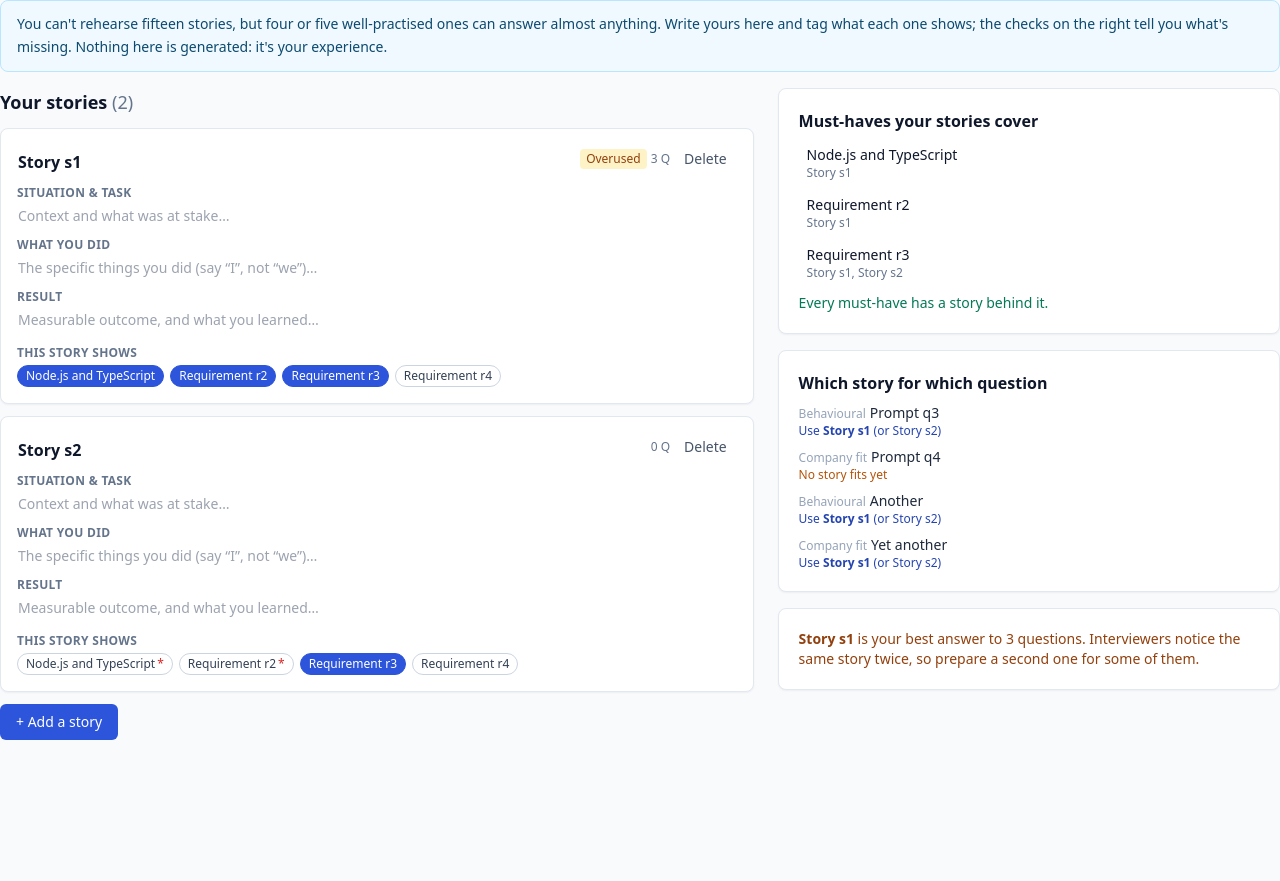
StoryBank › flags an overused story, shows full must-have coverage and alternatives, and save errors
Expected: the text "Overused" is shown, x1=580 y1=148 x2=647 y2=168
Expected: the text "is your best answer to 3 questions" is shown, x1=799 y1=628 x2=1259 y2=668
Click the button "+ Add a story".
click(59, 722)  # box x1=0 y1=704 x2=118 y2=740
Wait 700 ms
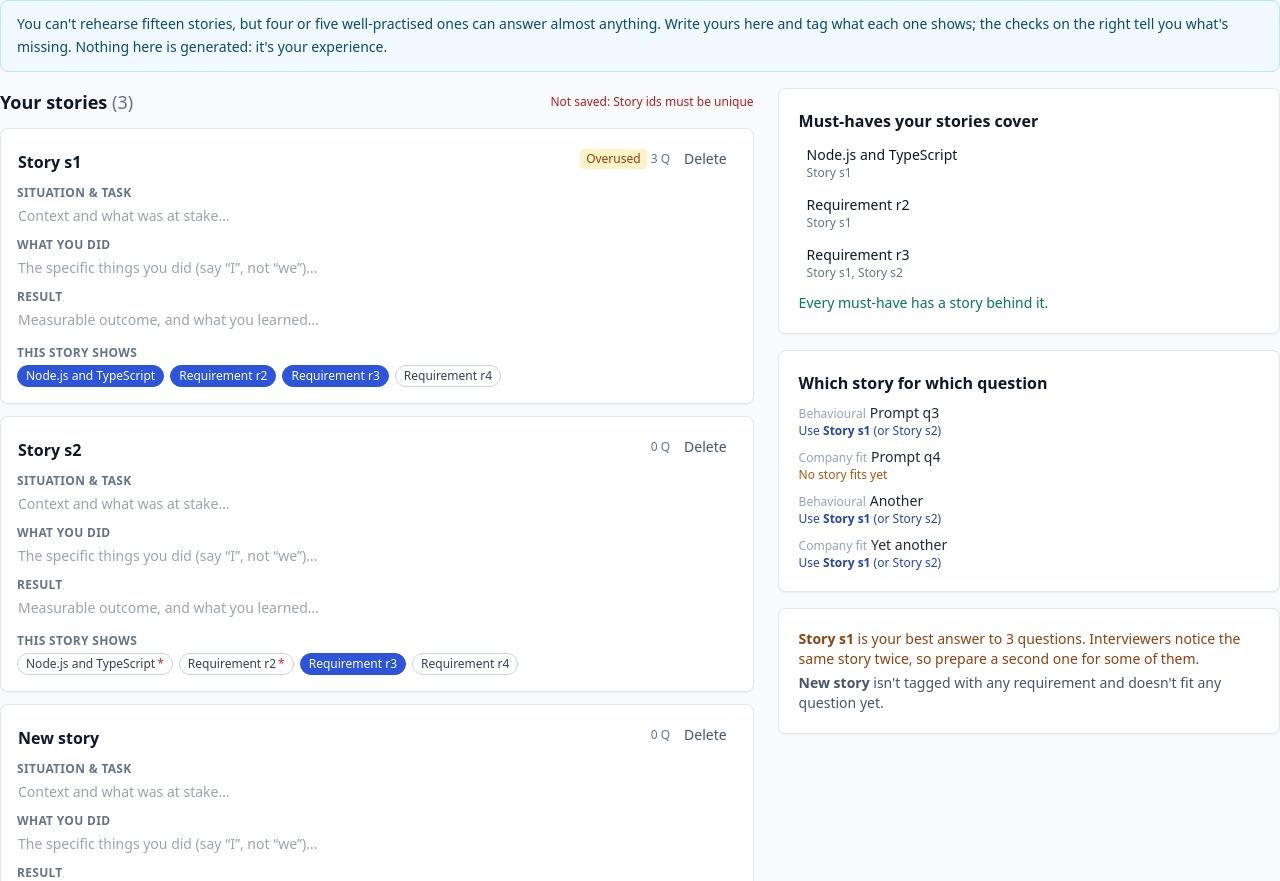
Now the text "Not saved: Story ids must be unique" is shown, box x1=550 y1=94 x2=754 y2=110
